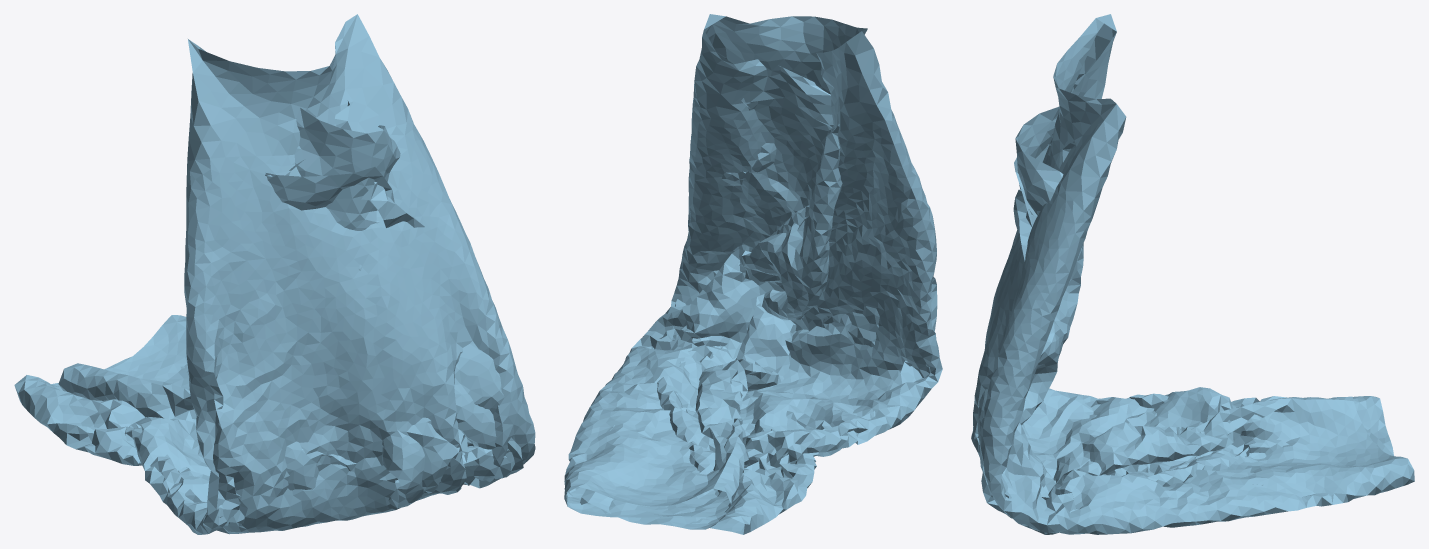
The model's file is frame_12.glb.
3 renders of one model, left to right at view 1: azimuth 30°, elevation 25°; view 2: azimuth 150°, elevation 25°; view 3: azimuth 270°, elevation 25°, orthographic. The views are drawn at different scales.
Visible parts, largest first — view 1: frame_12.obj; view 2: frame_12.obj; view 3: frame_12.obj.
Part boxes in pixels (x1=…): frame_12.obj: x1=14, y1=14, x2=535, y2=534; frame_12.obj: x1=564, y1=14, x2=942, y2=534; frame_12.obj: x1=971, y1=14, x2=1414, y2=534.
Size of the model in its own units: 0.8262 by 1.13 by 1.11.
